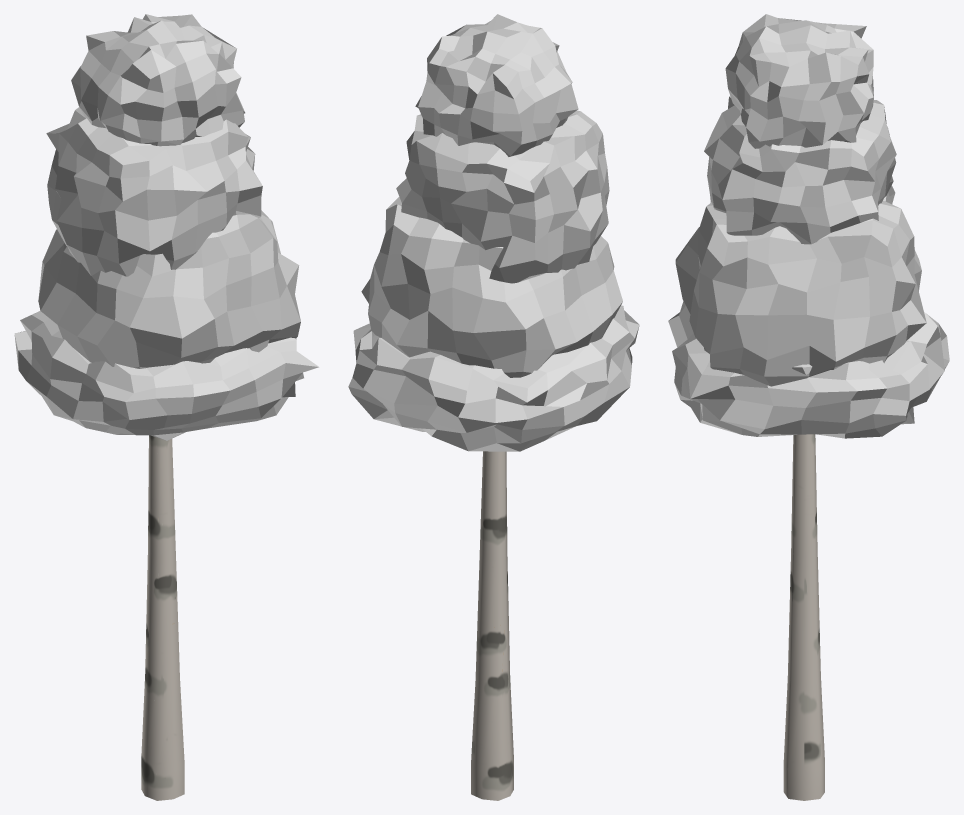
File: birch4.fbx
The picture shows the model from 3 angles, left to right: view 1: azimuth 30°, elevation 25°; view 2: azimuth 150°, elevation 25°; view 3: azimuth 270°, elevation 25°; orthographic projection.
Parts seen in each view (by area): view 1: Foliage, Tree; view 2: Foliage, Tree; view 3: Foliage, Tree.
Part boxes in pixels (left/top/right/bottom): Foliage: left=14, top=14, right=318, bottom=440; Tree: left=141, top=435, right=184, bottom=800; Foliage: left=348, top=14, right=639, bottom=451; Tree: left=471, top=451, right=513, bottom=800; Foliage: left=668, top=14, right=949, bottom=438; Tree: left=783, top=434, right=824, bottom=800.
Size of the model in its own units: 1675 by 5313 by 1766.
Materials: 2 (1 with a texture image).
